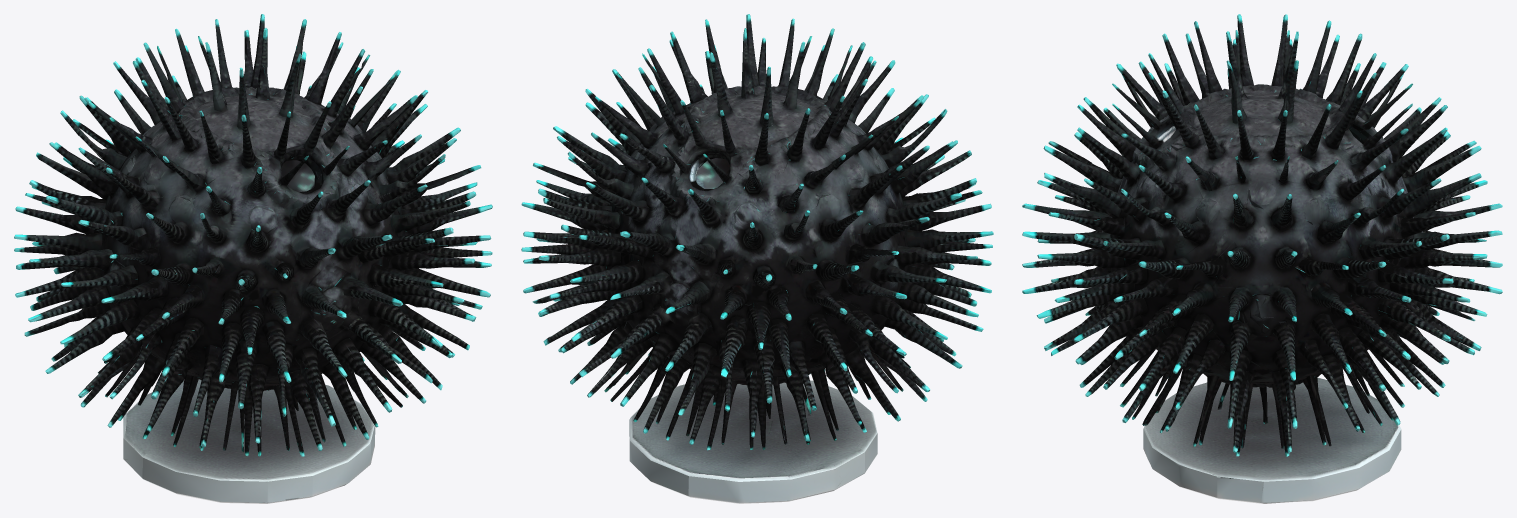
The model's file is bloom_urchin.glb.
3 views of the same model, side by side, from view 1: azimuth 30°, elevation 25°; view 2: azimuth 150°, elevation 25°; view 3: azimuth 270°, elevation 25° (orthographic).
Size of the model in its own units: 1.9 by 1.77 by 1.9.
Materials: 1 (1 with a texture image).
